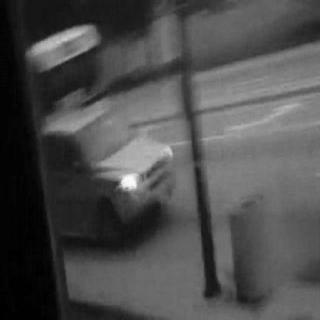other: (114, 168, 140, 198)
